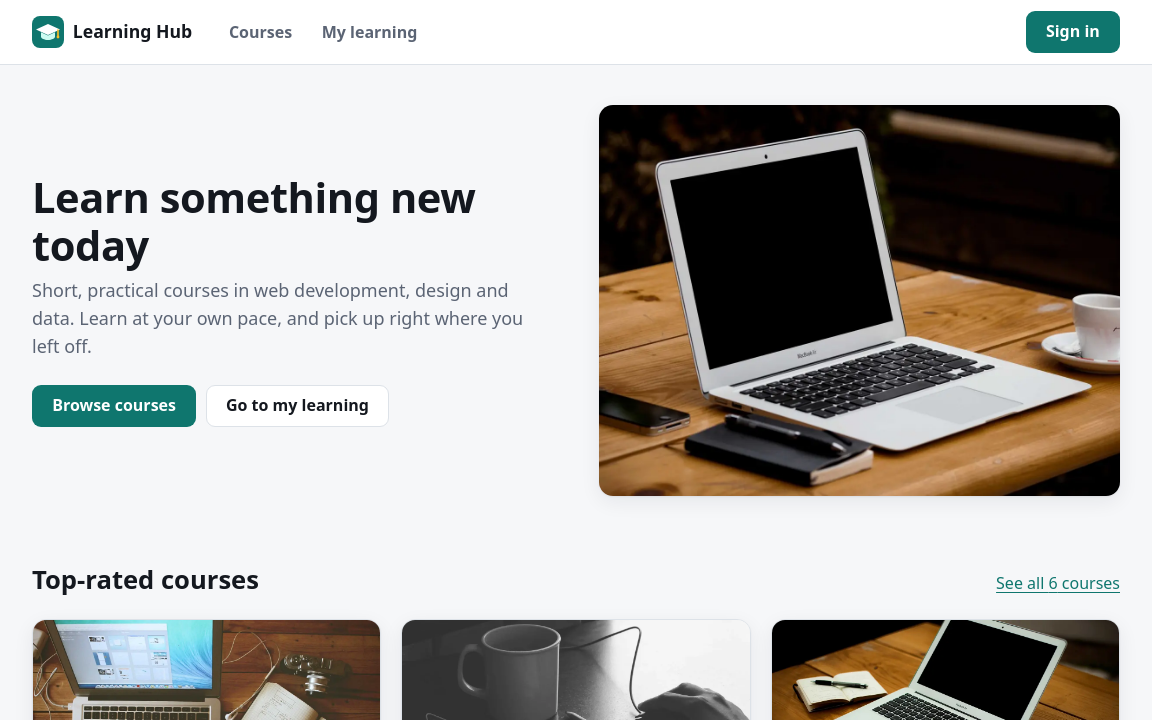
Test: browsing › goes from the home page to the catalogue, with title and focus
Expected: the heading "Learn something new today" is shown, [32, 174, 553, 269]
Click the link "Browse courses": [114, 406] box [32, 385, 196, 427]
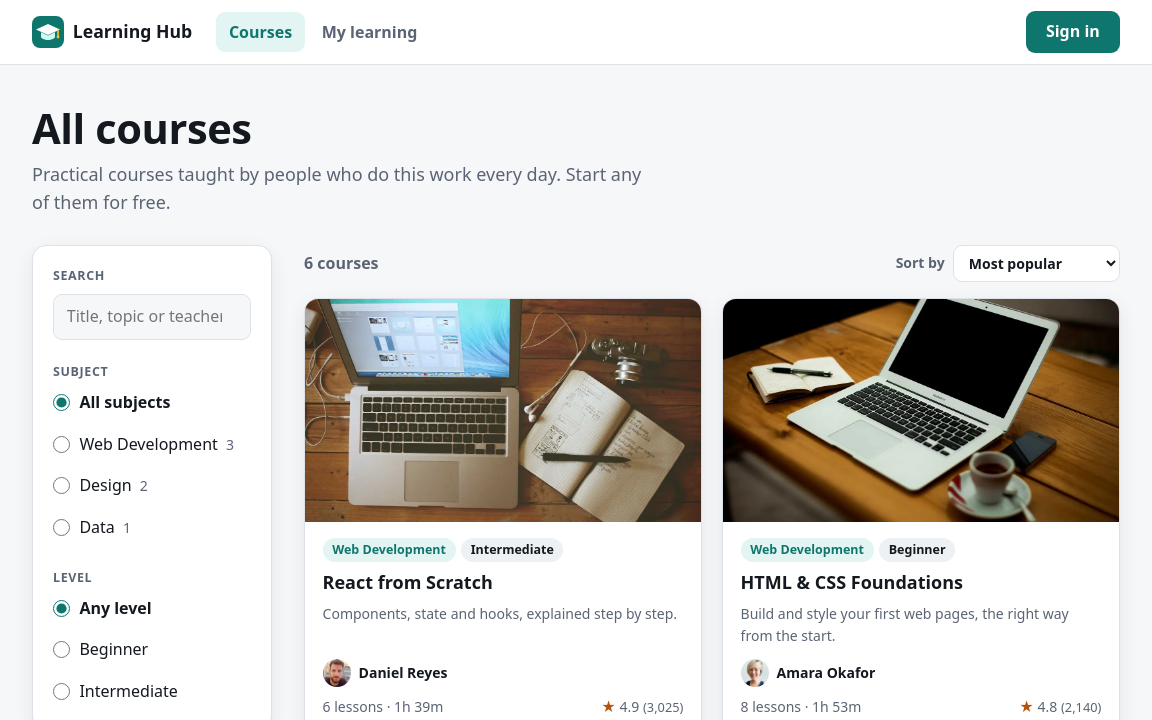
Expected: the heading "All courses" is shown, [32, 100, 252, 156]
